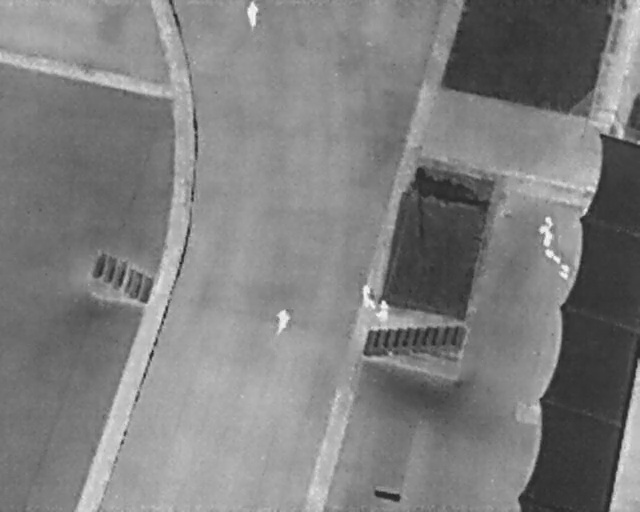Person: (271, 303, 292, 338), (360, 283, 375, 309), (246, 0, 258, 29), (376, 299, 390, 321)
